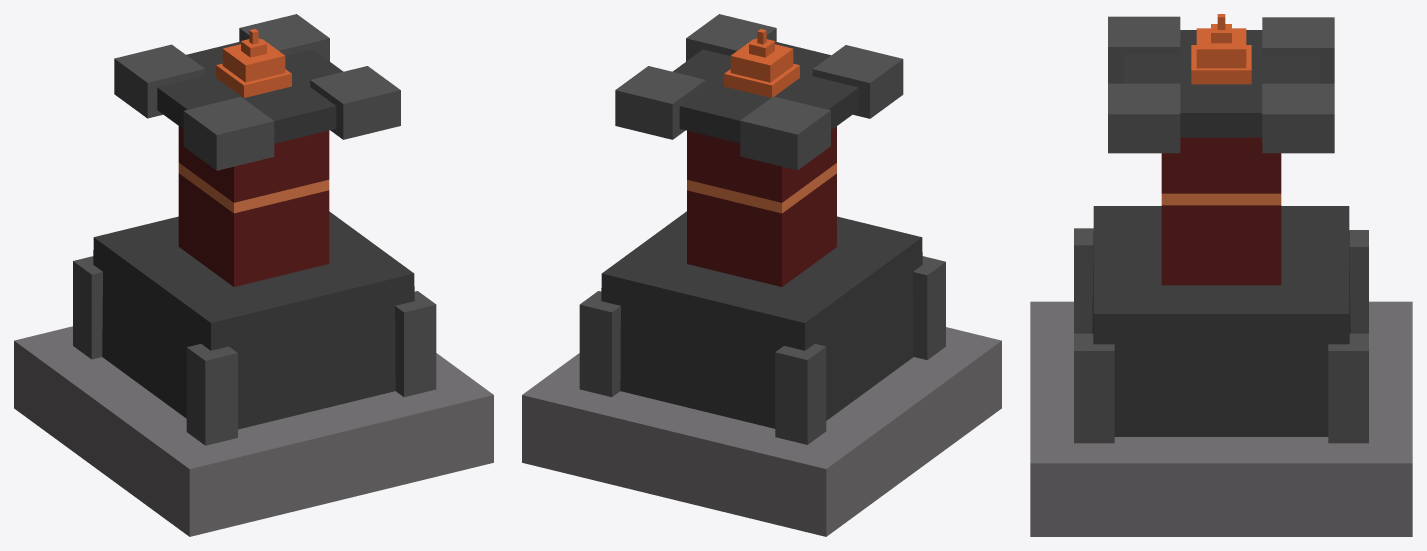
File: turret.fbx
3 renders of one model, left to right at view 1: azimuth 30°, elevation 25°; view 2: azimuth 150°, elevation 25°; view 3: azimuth 270°, elevation 25°, orthographic. The views are drawn at different scales.
Visible parts, largest first — view 1: Cube.016; view 2: Cube.016; view 3: Cube.016.
Part boxes in pixels (x1,y1,x2,y2): Cube.016: (14, 14, 493, 536); Cube.016: (522, 14, 1001, 536); Cube.016: (1030, 14, 1412, 536).
Bounding box in the file's own units: 114 × 145 × 114.
